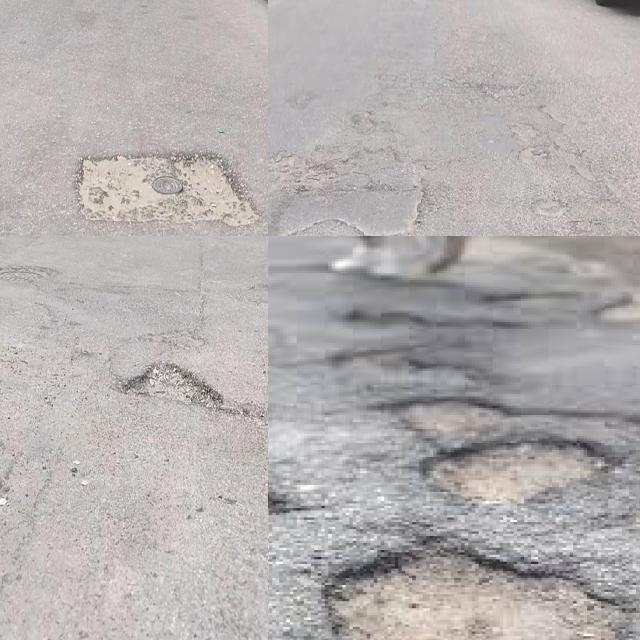Pothole: (409, 403, 640, 501), (342, 557, 610, 640), (78, 153, 246, 227), (268, 180, 427, 236), (122, 355, 224, 411)
